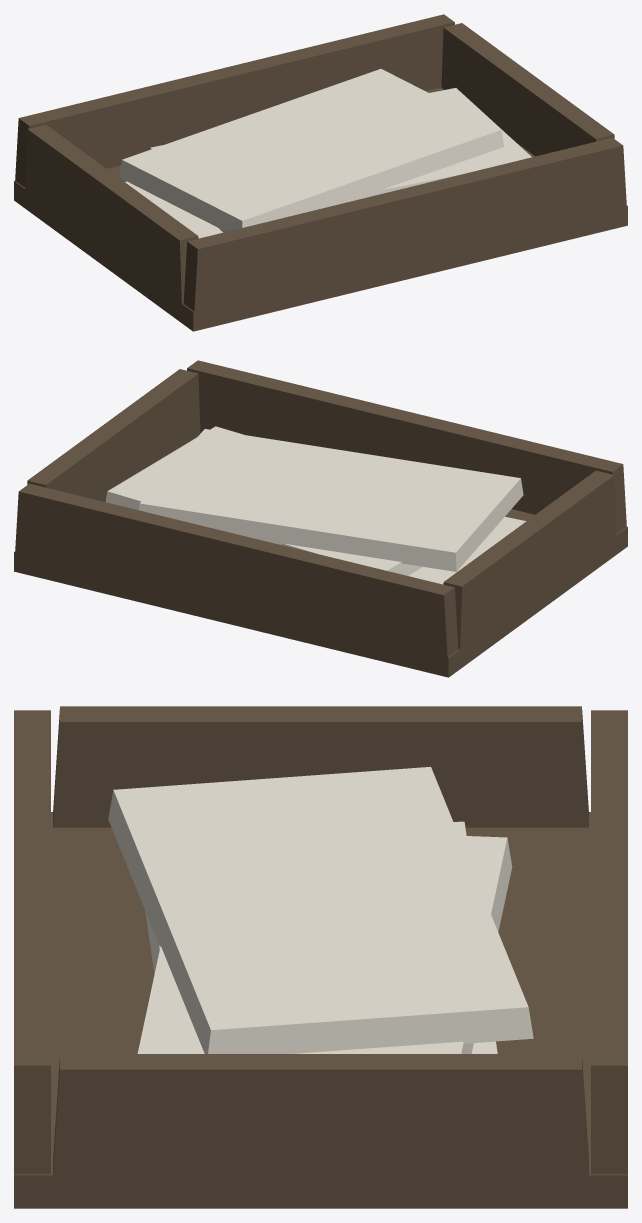
Rendered from SM_EnvelopeTray_voi.glb.
The picture shows the model from 3 angles, top to bottom: view 1: azimuth 30°, elevation 25°; view 2: azimuth 150°, elevation 25°; view 3: azimuth 270°, elevation 25°; orthographic projection. The views are drawn at different scales.
Visible parts, largest first — view 1: envelopes_3, tray_wall_S, tray_wall_N, tray_wall_W, tray_base, tray_wall_E, envelopes_2, envelopes_1; view 2: envelopes_3, tray_wall_N, tray_wall_S, tray_wall_W, tray_wall_E, tray_base, envelopes_2, envelopes_1; view 3: envelopes_3, tray_wall_E, tray_base, tray_wall_W, tray_wall_N, tray_wall_S, envelopes_2, envelopes_1.
Part boxes in pixels (left/top/right/bottom): envelopes_3: left=119, top=69, right=504, bottom=231; tray_wall_S: left=183, top=137, right=626, bottom=323; tray_wall_N: left=15, top=14, right=454, bottom=187; tray_wall_W: left=25, top=124, right=198, bottom=322; tray_base: left=14, top=87, right=627, bottom=331; tray_wall_E: left=441, top=23, right=614, bottom=156; envelopes_2: left=150, top=88, right=531, bottom=232; envelopes_1: left=125, top=181, right=222, bottom=238; envelopes_3: left=138, top=429, right=523, bottom=571; tray_wall_N: left=15, top=483, right=458, bottom=674; tray_wall_S: left=187, top=360, right=626, bottom=533; tray_wall_W: left=443, top=470, right=617, bottom=669; tray_wall_E: left=27, top=369, right=200, bottom=501; tray_base: left=14, top=433, right=627, bottom=677; envelopes_2: left=105, top=426, right=422, bottom=575; envelopes_1: left=408, top=516, right=525, bottom=584; envelopes_3: left=108, top=766, right=533, bottom=1053; tray_wall_E: left=51, top=1054, right=590, bottom=1208; tray_base: left=14, top=812, right=627, bottom=1208; tray_wall_W: left=53, top=706, right=588, bottom=827; tray_wall_N: left=591, top=710, right=627, bottom=1174; tray_wall_S: left=14, top=710, right=50, bottom=1174; envelopes_2: left=137, top=835, right=512, bottom=1053; envelopes_1: left=145, top=821, right=497, bottom=1053.
Size of the model in its own units: 0.28 by 0.05 by 0.2.
